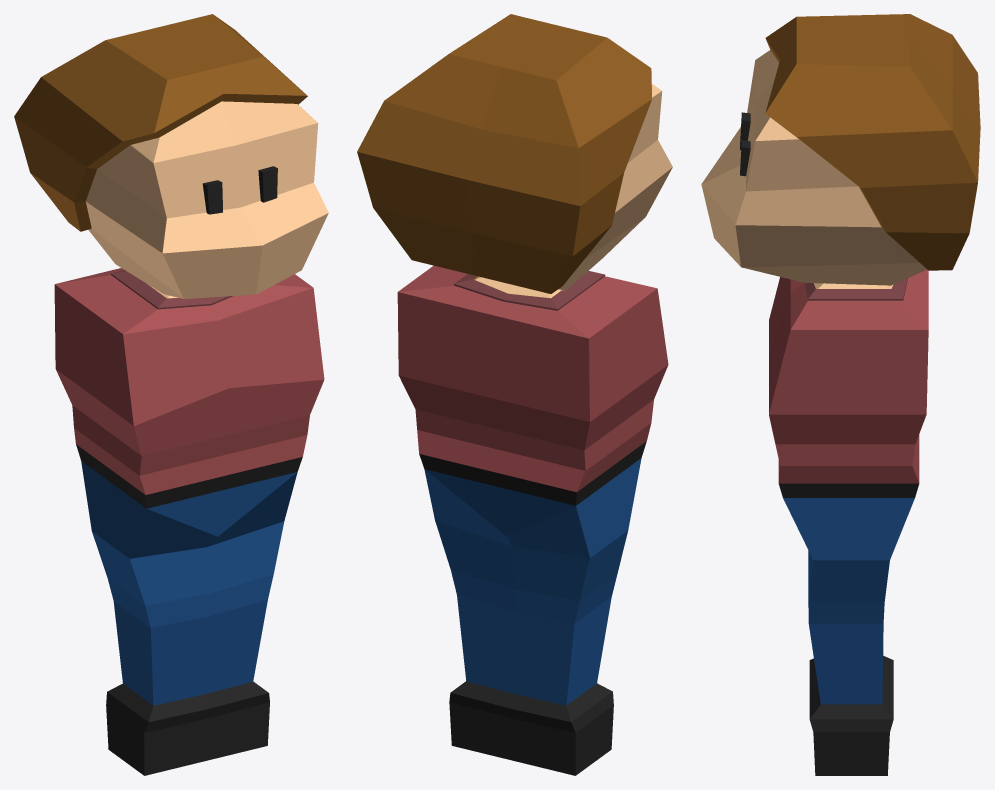
Rendered from bobsimple.glb.
3 views of the same model, side by side, from view 1: azimuth 30°, elevation 25°; view 2: azimuth 150°, elevation 25°; view 3: azimuth 270°, elevation 25° (orthographic).
Visible parts, largest first — view 1: Person; view 2: Person; view 3: Person.
Boxes of the visible parts, box(x1,y1,x2,y2) form: Person: box(14, 14, 328, 775); Person: box(357, 14, 672, 775); Person: box(701, 14, 980, 775).
Bounding box in the file's own units: 0.028 × 0.0839 × 0.0301.
